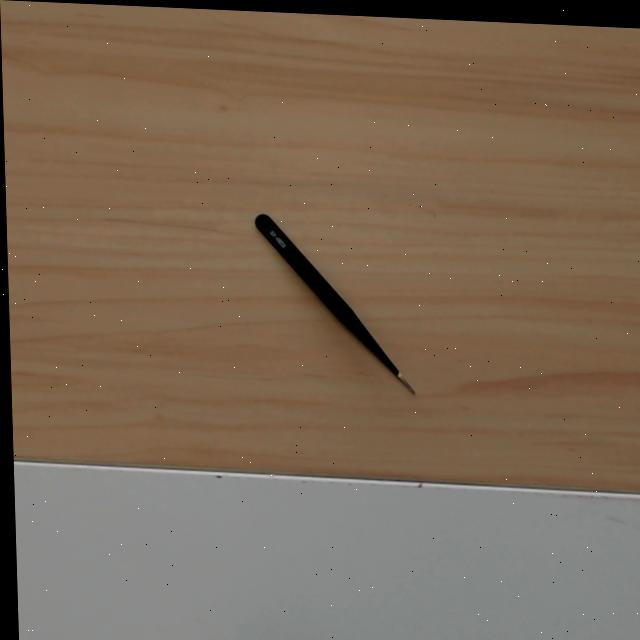Tweezers: (250, 210, 420, 399)
